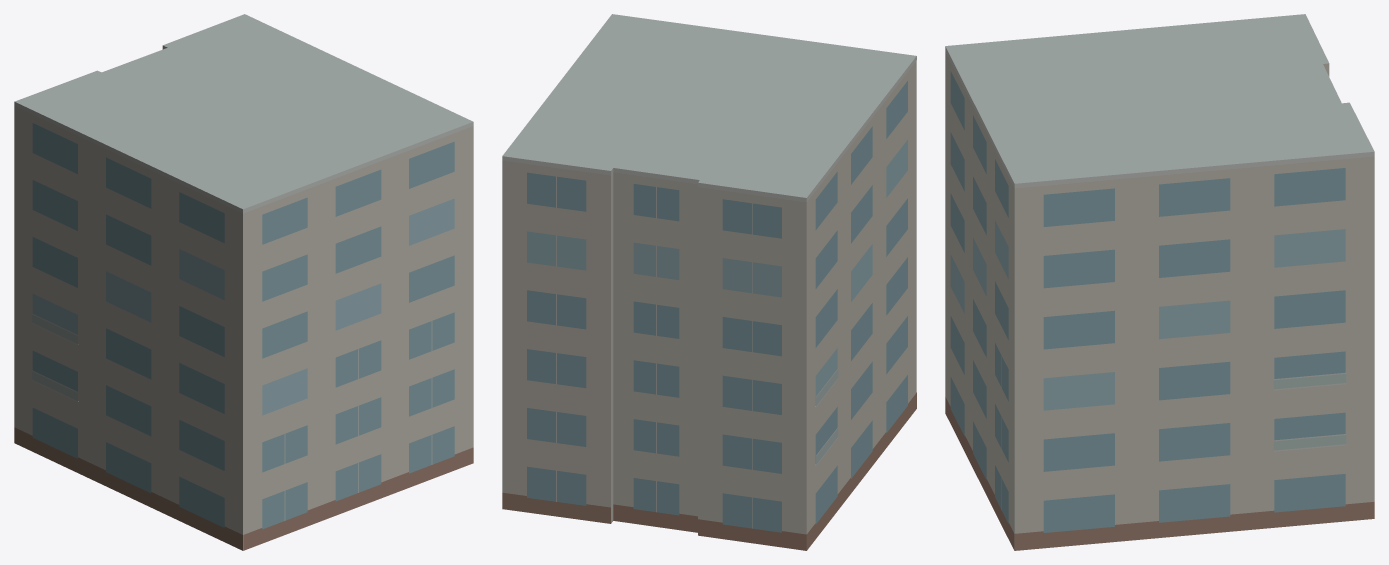
Rendered from survey-upis-32836228.glb.
3 renders of one model, left to right at view 1: azimuth 30°, elevation 25°; view 2: azimuth 150°, elevation 25°; view 3: azimuth 270°, elevation 25°, orthographic. The views are drawn at different scales.
Parts seen in each view (by area): view 1: survey-upis-32836228.tmp; view 2: survey-upis-32836228.tmp; view 3: survey-upis-32836228.tmp.
Part boxes in pixels (x1,y1,x2,y2): survey-upis-32836228.tmp: (14,14,473,550); survey-upis-32836228.tmp: (502,14,916,550); survey-upis-32836228.tmp: (945,14,1374,550).
Bounding box in the file's own units: 19.45 × 19.6 × 20.79.
